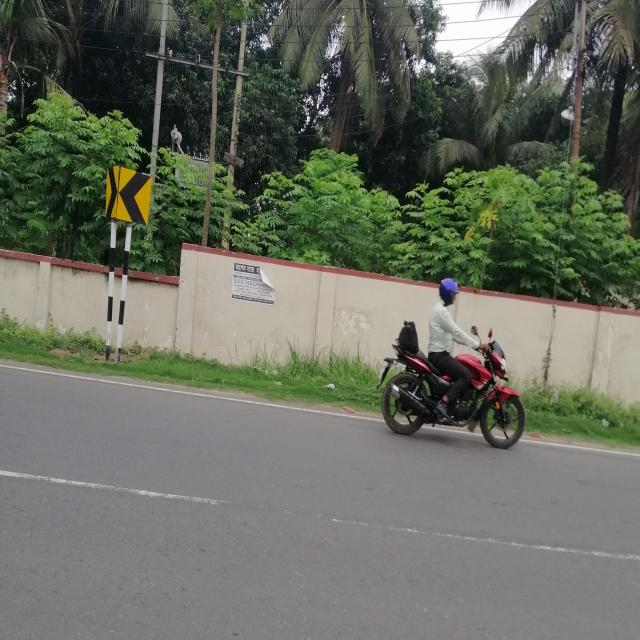Motorbike: (374, 323, 529, 454)
